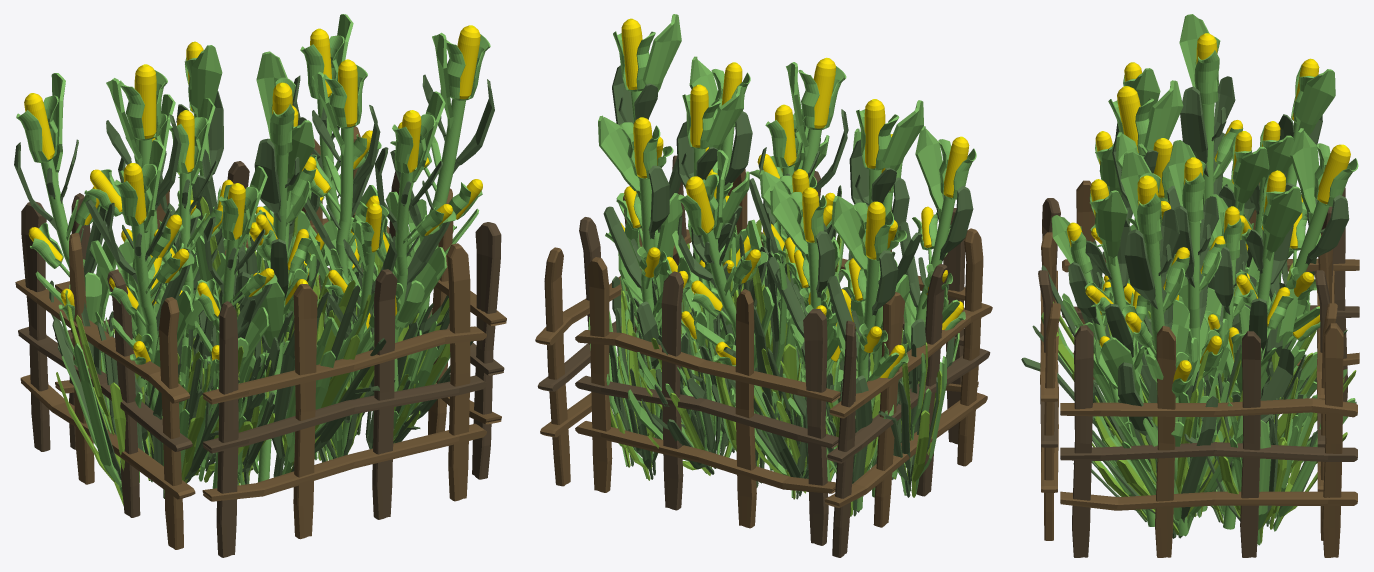
File: CornClusterFenced.fbx
The picture shows the model from 3 angles, left to right: view 1: azimuth 30°, elevation 25°; view 2: azimuth 150°, elevation 25°; view 3: azimuth 270°, elevation 25°; orthographic projection. The views are drawn at different scales.
Parts seen in each view (by area): view 1: Cube.004, Shrub.002, Shrub.003, Shrub.004; view 2: Cube.004, Shrub.004, Shrub.002, Shrub.003; view 3: Shrub.002, Cube.004, Shrub.004, Shrub.003.
Boxes of the visible parts, <box> form: Cube.004: <box>15,126,506,557</box>; Shrub.002: <box>52,25,494,505</box>; Shrub.003: <box>105,91,473,498</box>; Shrub.004: <box>14,14,395,471</box>; Cube.004: <box>535,155,992,557</box>; Shrub.004: <box>588,115,908,516</box>; Shrub.002: <box>605,14,946,497</box>; Shrub.003: <box>661,56,976,479</box>; Shrub.002: <box>1102,14,1298,538</box>; Cube.004: <box>1038,180,1359,557</box>; Shrub.004: <box>1184,58,1358,545</box>; Shrub.003: <box>1021,62,1238,535</box>.
Size of the model in its own units: 237 by 251 by 190.
